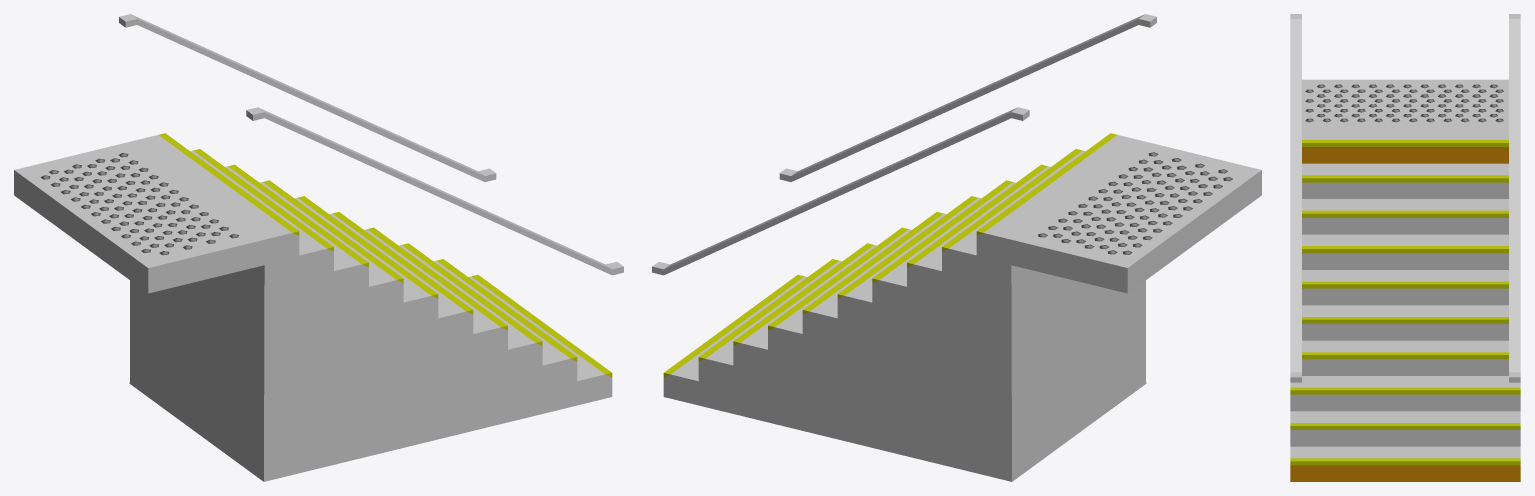
Rendered from escalier expo.fbx.
The picture shows the model from 3 angles, left to right: view 1: azimuth 30°, elevation 25°; view 2: azimuth 150°, elevation 25°; view 3: azimuth 270°, elevation 25°; orthographic projection. The views are drawn at different scales.
Visible parts, largest first — view 1: Cube; view 2: Cube; view 3: Cube.
Part boxes in pixels (x1,y1,x2,y2): Cube: [14, 14, 623, 481]; Cube: [652, 14, 1261, 481]; Cube: [1290, 14, 1520, 481].
Size of the model in its own units: 819 by 608 by 400.
